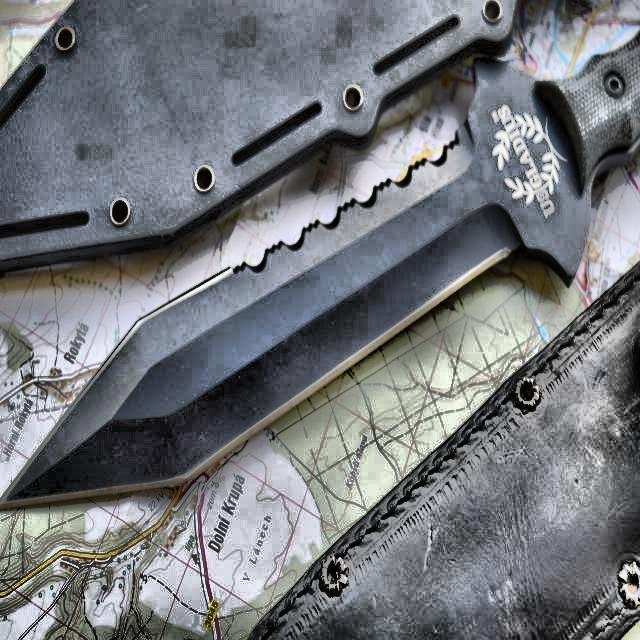knife: (0, 27, 640, 520)
